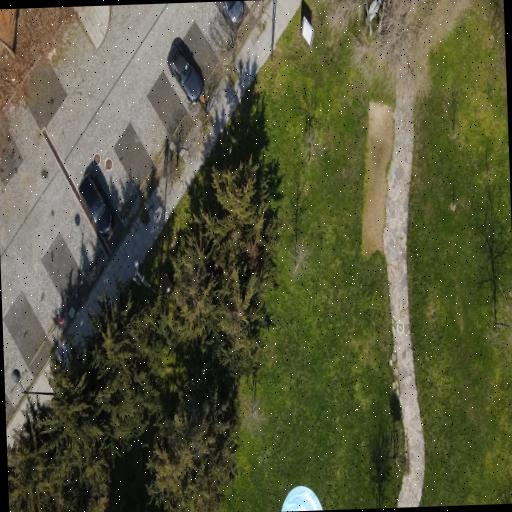UAP: (281, 486, 322, 511)
car: (167, 38, 203, 102), (78, 174, 111, 235), (220, 1, 243, 23)
